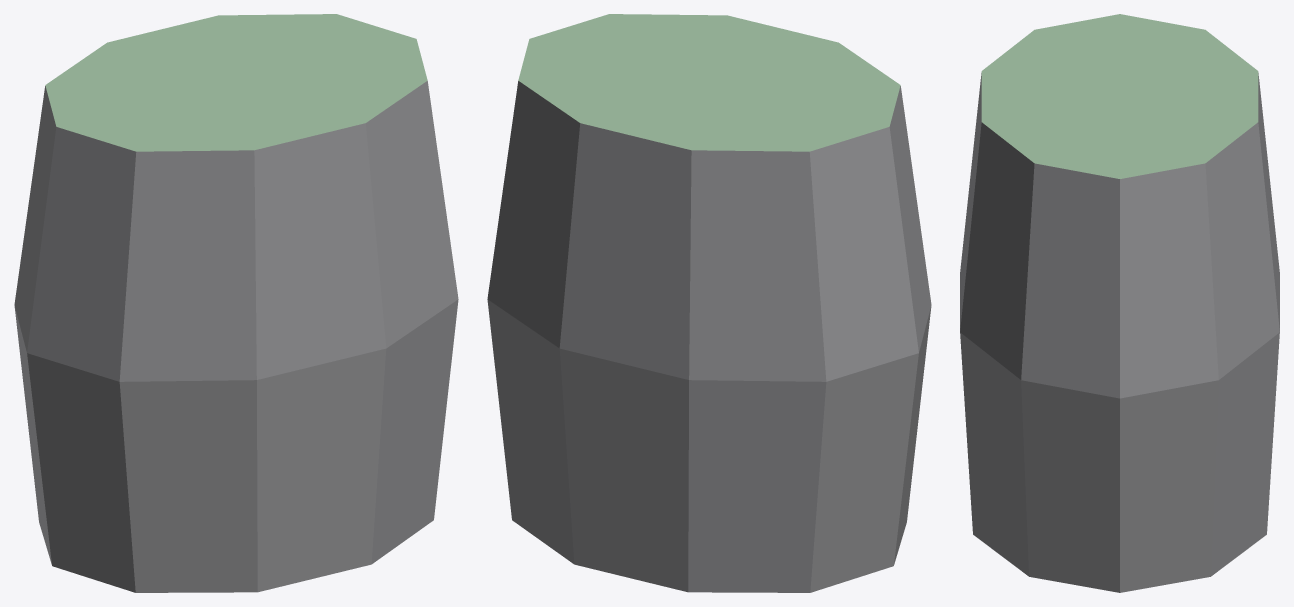
Rendered from npc_module_pelvis_v01.glb.
The picture shows the model from 3 angles, left to right: view 1: azimuth 30°, elevation 25°; view 2: azimuth 150°, elevation 25°; view 3: azimuth 270°, elevation 25°; orthographic projection. The views are drawn at different scales.
Parts seen in each view (by area): view 1: GEO_npc_module_pelvis_v01; view 2: GEO_npc_module_pelvis_v01; view 3: GEO_npc_module_pelvis_v01.
Part boxes in pixels (x1,y1,x2,y2): GEO_npc_module_pelvis_v01: (14, 14, 458, 592); GEO_npc_module_pelvis_v01: (487, 14, 931, 592); GEO_npc_module_pelvis_v01: (960, 14, 1279, 592).
Bounding box in the file's own units: 1 × 1 × 0.7038.
